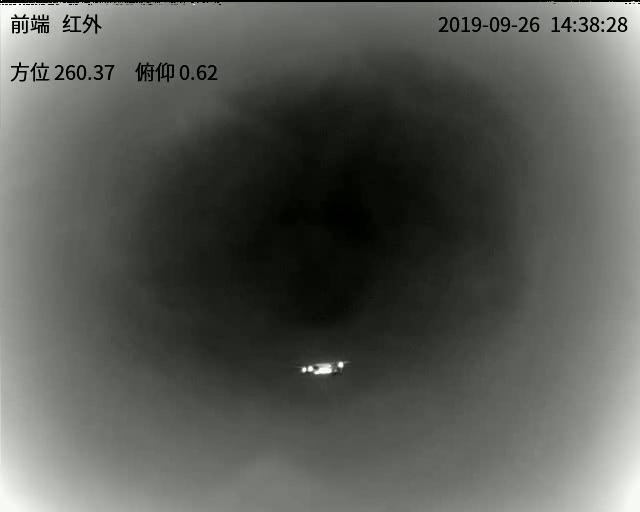DRONE: (300, 360, 350, 377)
